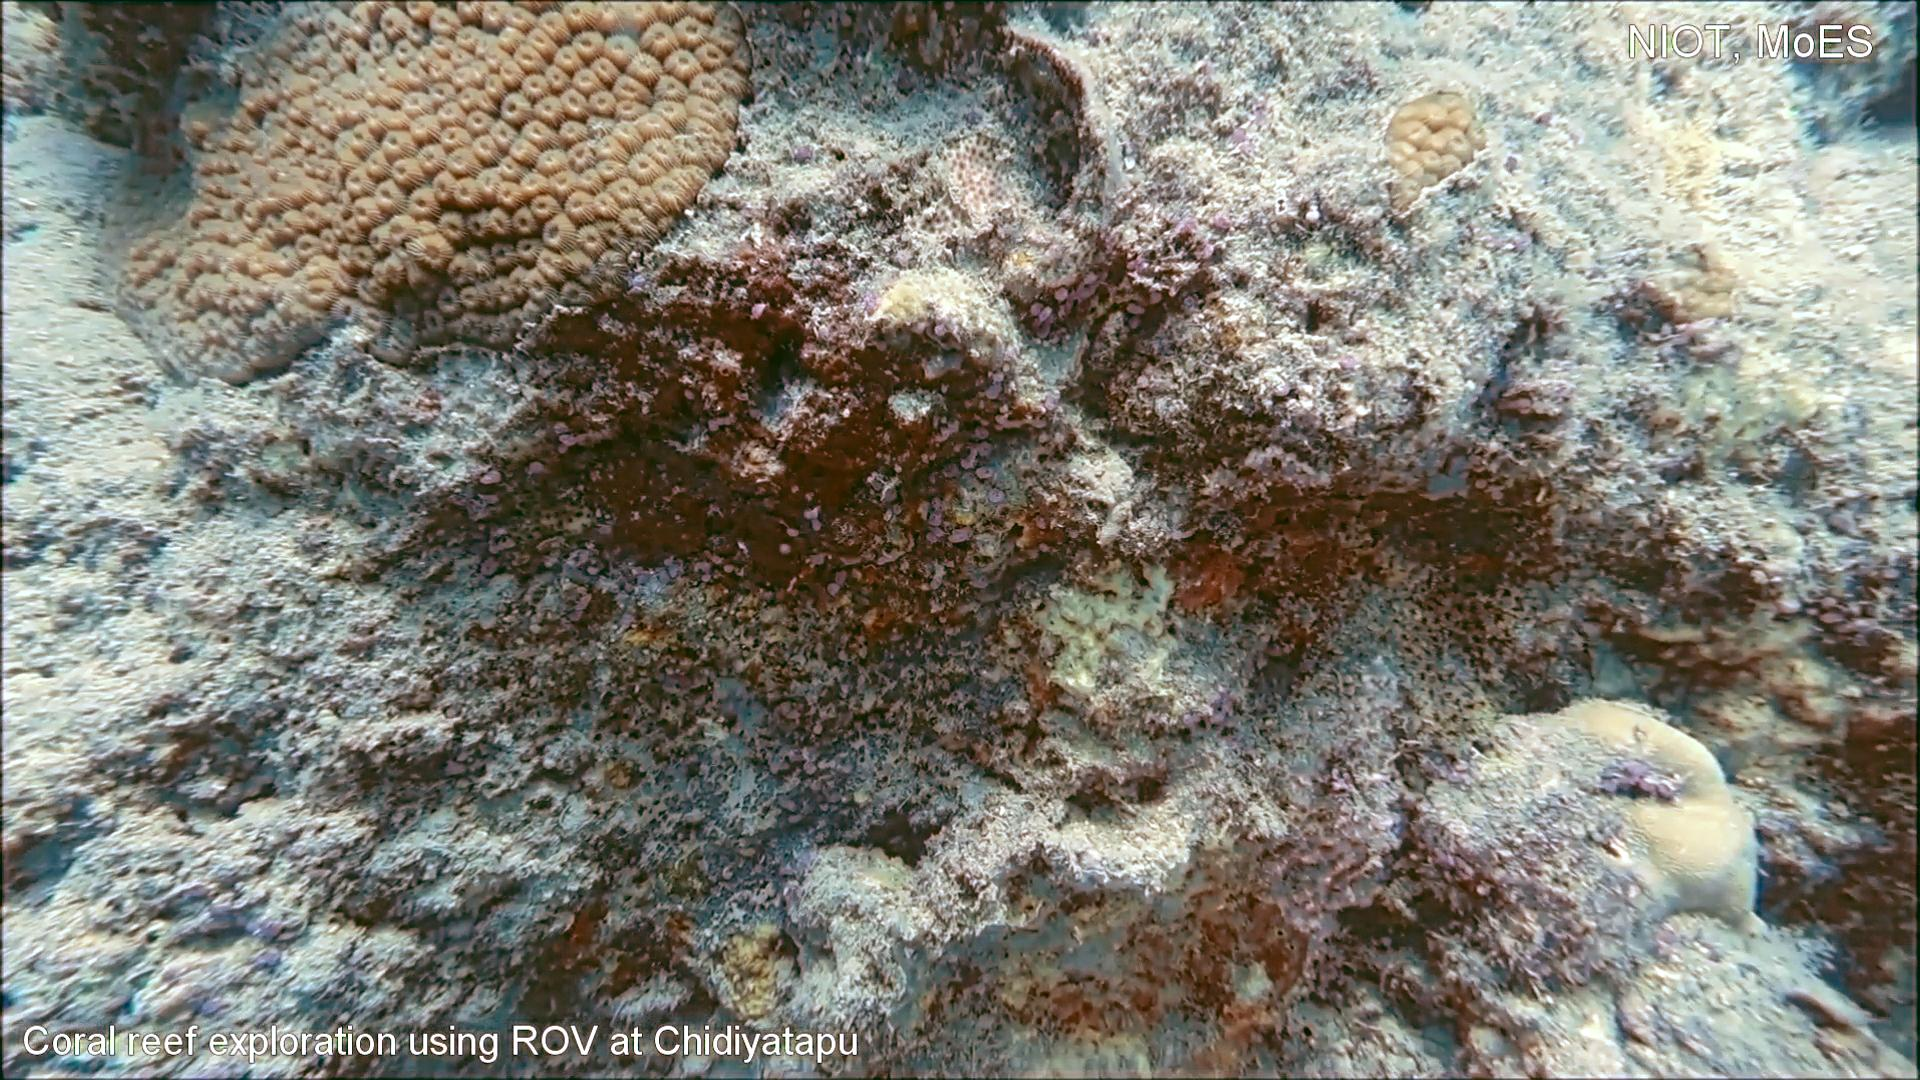Montastraea: (112, 0, 766, 397), (1371, 80, 1491, 232)
